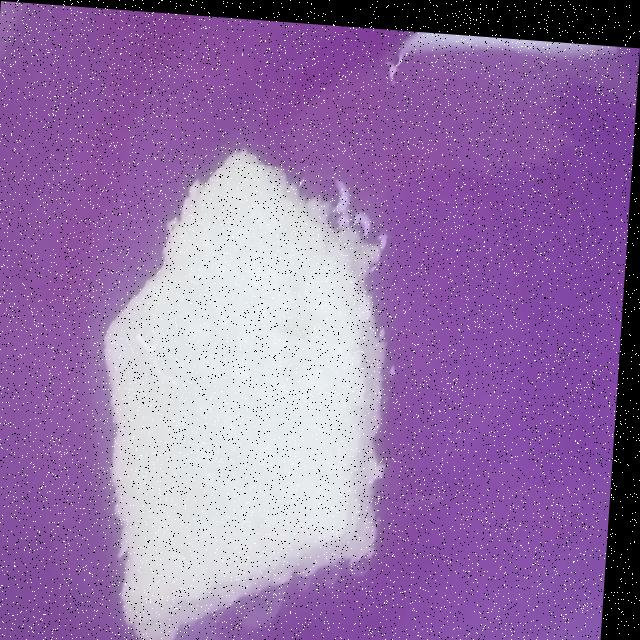litter: (75, 150, 423, 640)
